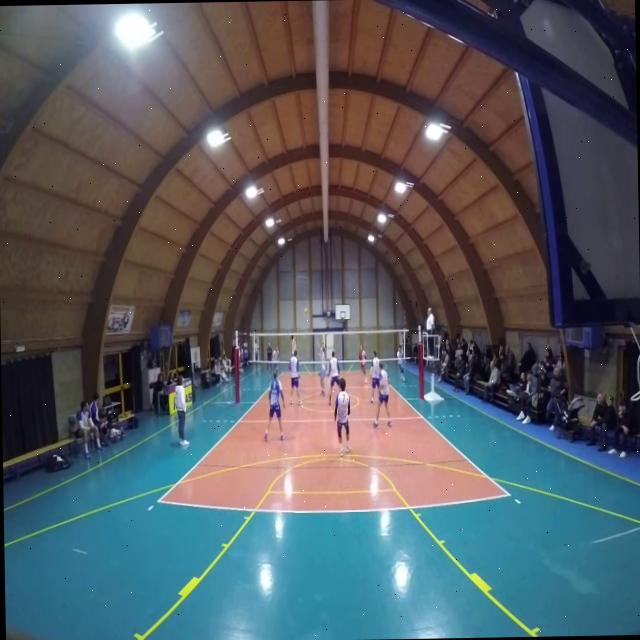Volleyball: (303, 305, 309, 315)
